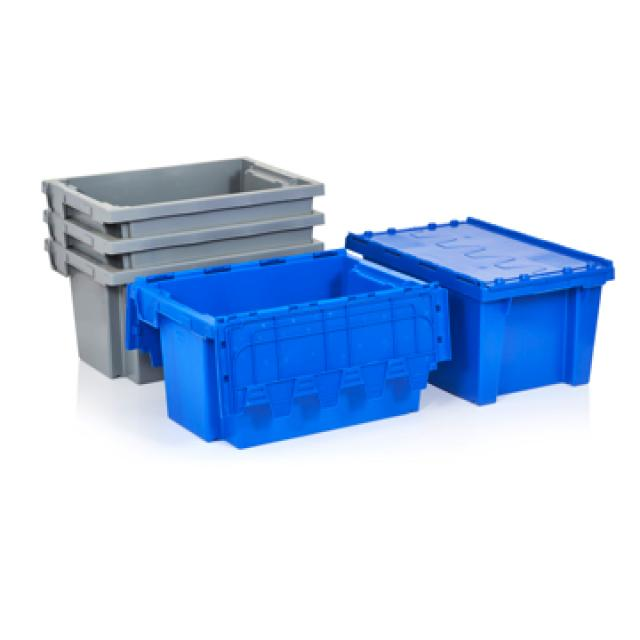basket: (115, 227, 469, 466), (37, 150, 344, 393), (318, 190, 623, 430)
